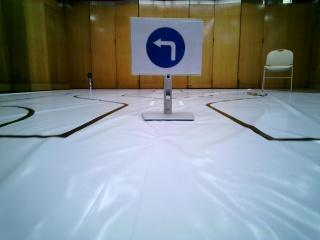left: (130, 18, 202, 75)
